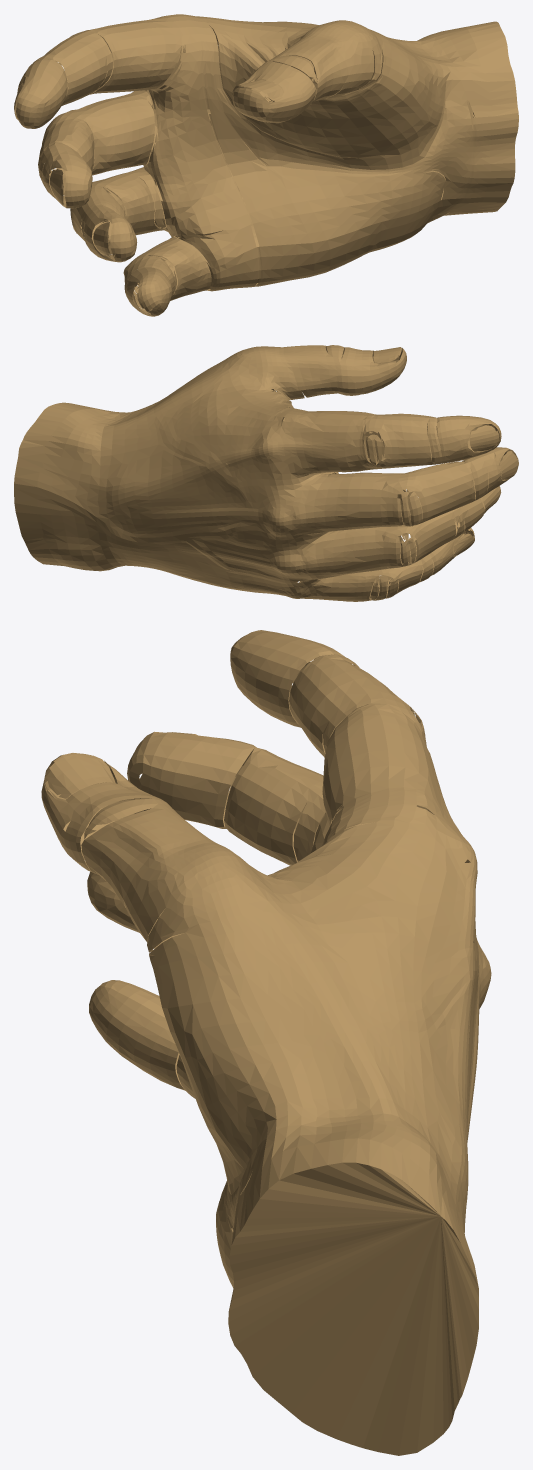
Rendered from hand.fbx.
3 views of the same model, one above another, from view 1: azimuth 30°, elevation 25°; view 2: azimuth 150°, elevation 25°; view 3: azimuth 270°, elevation 25° (orthographic). The views are drawn at different scales.
Visible parts, largest first — view 1: group_0, ID43, ID145, ID91; view 2: group_0, ID79, ID91, ID103, ID43; view 3: group_0, ID43.
Part boxes in pixels (x1,y1,x2,y2): group_0: (16,14,518,316); ID43: (238,79,282,98); ID145: (93,222,110,258); ID91: (49,169,63,206); group_0: (14,345,518,601); ID79: (470,425,499,451); ID91: (500,451,518,479); ID103: (400,537,416,565); ID43: (373,347,401,363); group_0: (41,630,491,1455); ID43: (47,753,115,798).
Size of the model in its own units: 0.0207 by 0.0102 by 0.00936.
